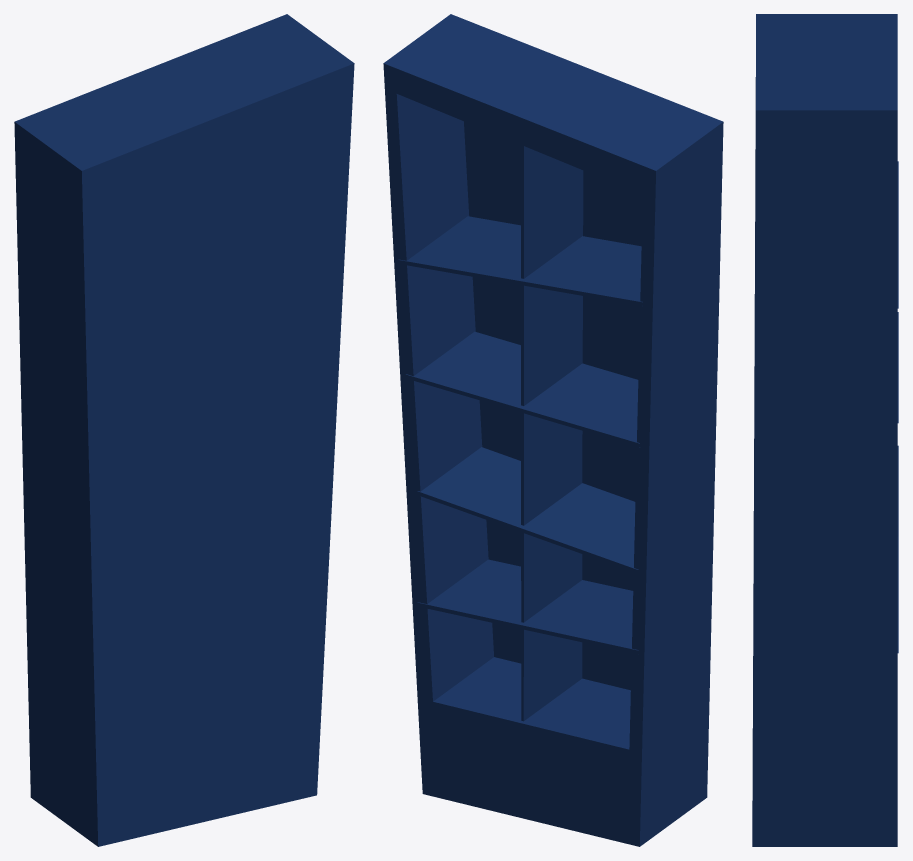
Rendered from BgMD_bookshelf_hi (1).fbx.
The picture shows the model from 3 angles, left to right: view 1: azimuth 30°, elevation 25°; view 2: azimuth 150°, elevation 25°; view 3: azimuth 270°, elevation 25°; orthographic projection. The views are drawn at different scales.
Parts seen in each view (by area): view 1: Bg_Bookshelf_Hi02; view 2: Bg_Bookshelf_Hi02; view 3: Bg_Bookshelf_Hi02.
Part boxes in pixels (box(x1,y1,x2,y2)): Bg_Bookshelf_Hi02: box(14, 14, 354, 846); Bg_Bookshelf_Hi02: box(383, 14, 723, 846); Bg_Bookshelf_Hi02: box(752, 14, 898, 846).
Bounding box in the file's own units: 72.43 × 183 × 32.1.
